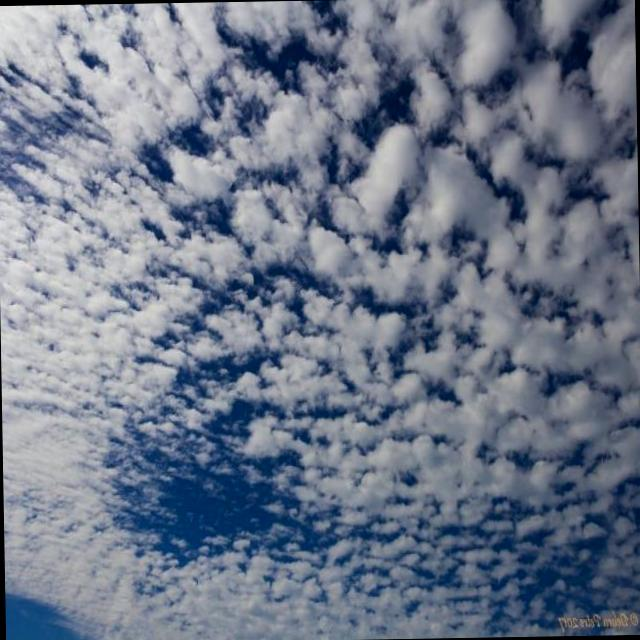altocumulus: (21, 20, 624, 630)
